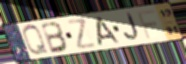A: (95, 16, 121, 46)
B: (40, 21, 71, 55)
F: (136, 8, 158, 41)
J: (123, 11, 141, 42)
Q: (21, 24, 51, 58)
Z: (65, 17, 99, 51)
